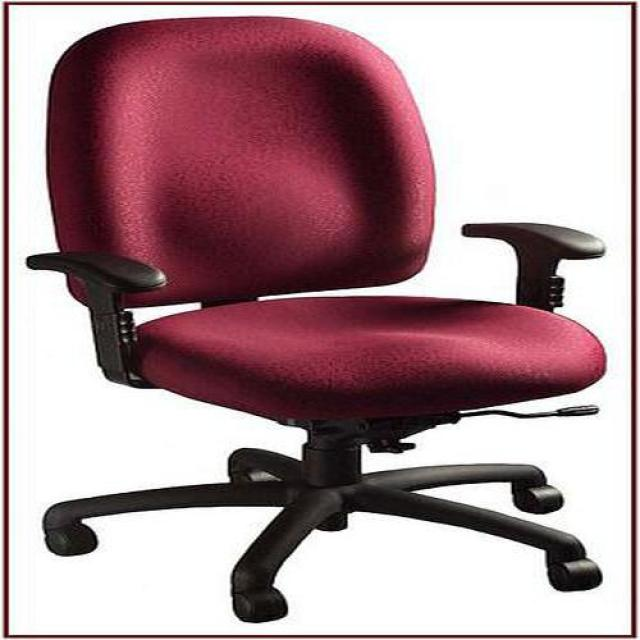swivelchair: (26, 15, 608, 627)
